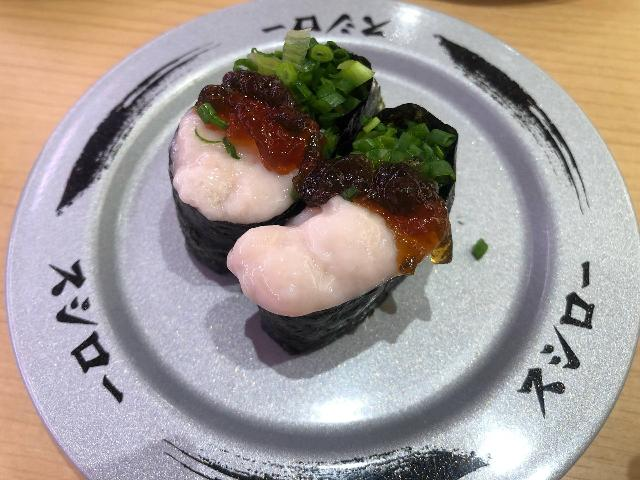janwhite: (0, 292, 640, 480), (470, 25, 640, 480), (13, 78, 169, 295), (141, 0, 539, 60)
